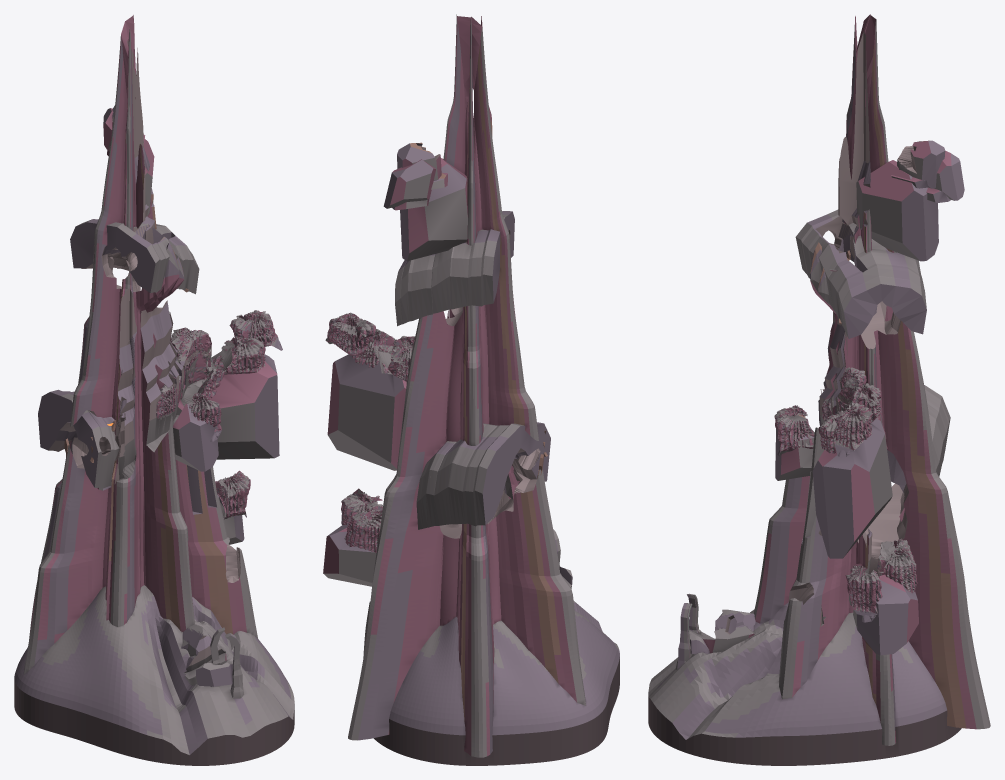
File: worldspire-environment.glb
The picture shows the model from 3 angles, left to right: view 1: azimuth 30°, elevation 25°; view 2: azimuth 150°, elevation 25°; view 3: azimuth 270°, elevation 25°; orthographic projection. The views are drawn at different scales.
Parts seen in each view (by area): view 1: Worldspire / mineral sector 00 3, Worldspire / mineral sector 01 3, Worldspire / mineral sector 04 2, Worldspire / mineral sector 02 3, Worldspire / mineral sector 03 3, Worldspire / mineral sector 00 2, Worldspire / mineral sector 05 2, Worldspire / mineral sector 01 2, Worldspire / mineral sector 04 3, Worldspire / mineral sector 02 2, Worldspire / mineral sector 05 3, Worldspire / mineral sector 03 2 (+12 smaller); view 2: Worldspire / mineral sector 00 0, Worldspire / mineral sector 01 0, Worldspire / mineral sector 02 1, Worldspire / mineral sector 04 1, Worldspire / mineral sector 02 0, Worldspire / mineral sector 04 0, Worldspire / mineral sector 03 0, Worldspire / mineral sector 01 1, Worldspire / mineral sector 08 1, Worldspire / mineral sector 05 1, Worldspire / mineral sector 07 0, Worldspire / mineral sector 03 1 (+16 smaller); view 3: Worldspire / mineral sector 00 2, Worldspire / mineral sector 01 2, Worldspire / mineral sector 02 1, Worldspire / mineral sector 00 1, Worldspire / mineral sector 02 2, Worldspire / mineral sector 04 2, Worldspire / mineral sector 08 1, Worldspire / mineral sector 01 1, Worldspire / mineral sector 07 1, Worldspire / mineral sector 04 1, Worldspire / mineral sector 05 1, Worldspire / mineral sector 03 1 (+13 smaller).
Boxes of the visible parts, x1,y1,x2,y2 form: Worldspire / mineral sector 00 3: [19, 651, 234, 765]; Worldspire / mineral sector 01 3: [28, 578, 218, 686]; Worldspire / mineral sector 04 2: [148, 353, 279, 471]; Worldspire / mineral sector 02 3: [36, 515, 177, 599]; Worldspire / mineral sector 03 3: [55, 448, 172, 534]; Worldspire / mineral sector 00 2: [212, 633, 294, 763]; Worldspire / mineral sector 05 2: [143, 305, 282, 395]; Worldspire / mineral sector 01 2: [177, 571, 256, 687]; Worldspire / mineral sector 04 3: [64, 389, 163, 487]; Worldspire / mineral sector 02 2: [173, 476, 250, 598]; Worldspire / mineral sector 05 3: [74, 303, 149, 401]; Worldspire / mineral sector 03 2: [163, 441, 278, 533]; Worldspire / mineral sector 00 0: [418, 681, 591, 765]; Worldspire / mineral sector 01 0: [427, 604, 581, 702]; Worldspire / mineral sector 02 1: [323, 495, 461, 616]; Worldspire / mineral sector 04 1: [333, 361, 455, 494]; Worldspire / mineral sector 02 0: [448, 533, 572, 631]; Worldspire / mineral sector 04 0: [434, 402, 543, 493]; Worldspire / mineral sector 03 0: [433, 473, 553, 561]; Worldspire / mineral sector 01 1: [359, 601, 448, 686]; Worldspire / mineral sector 08 1: [383, 129, 467, 252]; Worldspire / mineral sector 05 1: [328, 320, 458, 408]; Worldspire / mineral sector 07 0: [429, 188, 511, 303]; Worldspire / mineral sector 03 1: [337, 430, 443, 548]; Worldspire / mineral sector 00 2: [648, 660, 862, 765]; Worldspire / mineral sector 01 2: [678, 588, 862, 694]; Worldspire / mineral sector 02 1: [857, 520, 967, 655]; Worldspire / mineral sector 00 1: [863, 669, 990, 761]; Worldspire / mineral sector 02 2: [759, 523, 867, 629]; Worldspire / mineral sector 04 2: [774, 388, 874, 558]; Worldspire / mineral sector 08 1: [858, 98, 964, 242]; Worldspire / mineral sector 01 1: [863, 603, 978, 692]; Worldspire / mineral sector 07 1: [855, 193, 938, 285]; Worldspire / mineral sector 04 1: [851, 400, 938, 514]; Worldspire / mineral sector 05 1: [862, 331, 927, 441]; Worldspire / mineral sector 03 1: [844, 451, 957, 576].
Size of the model in its own units: 3460 by 8652 by 3838.
